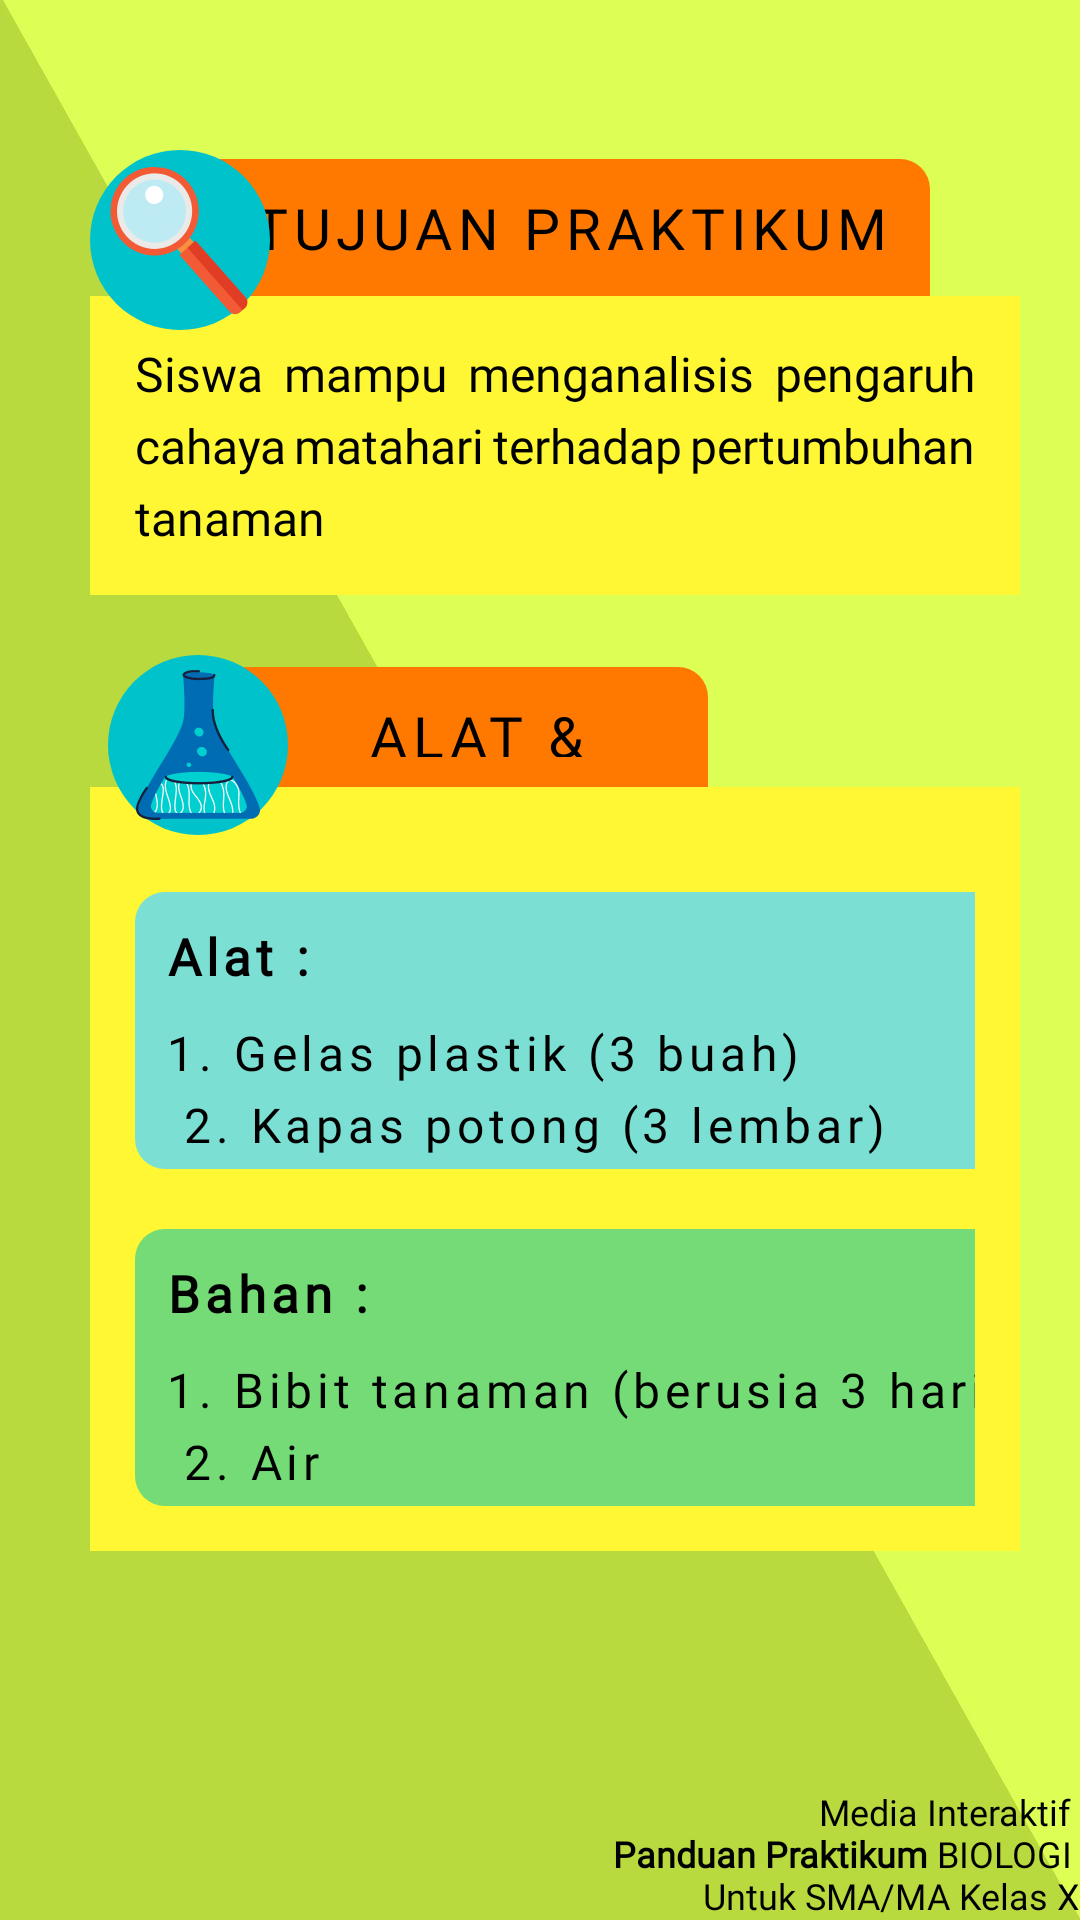

Icons on this 1080x1920 Android screen, each with the point to tap as [x,y]:
kacapembesar: [180,240]
